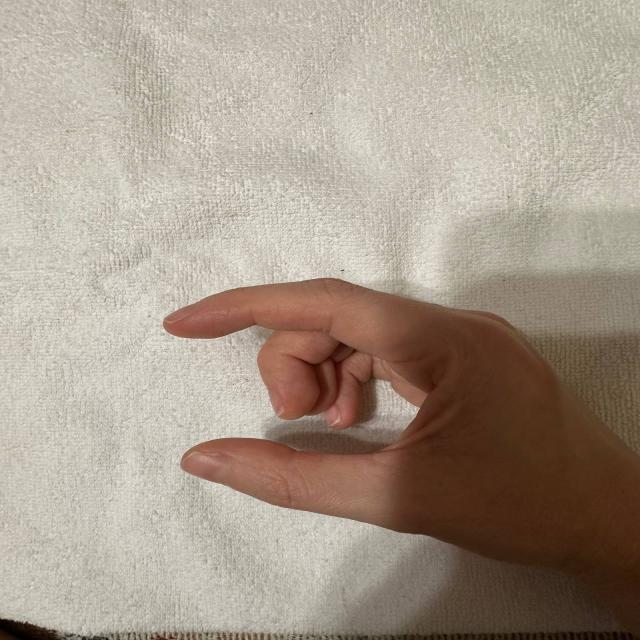uh: (145, 269, 626, 558)
